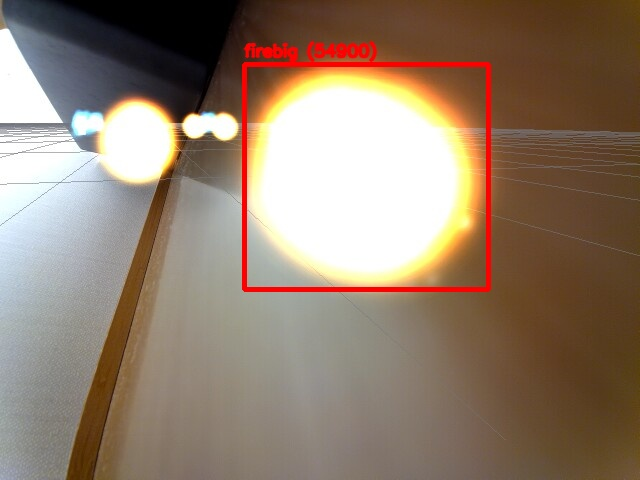firebig: (244, 64, 488, 289)
